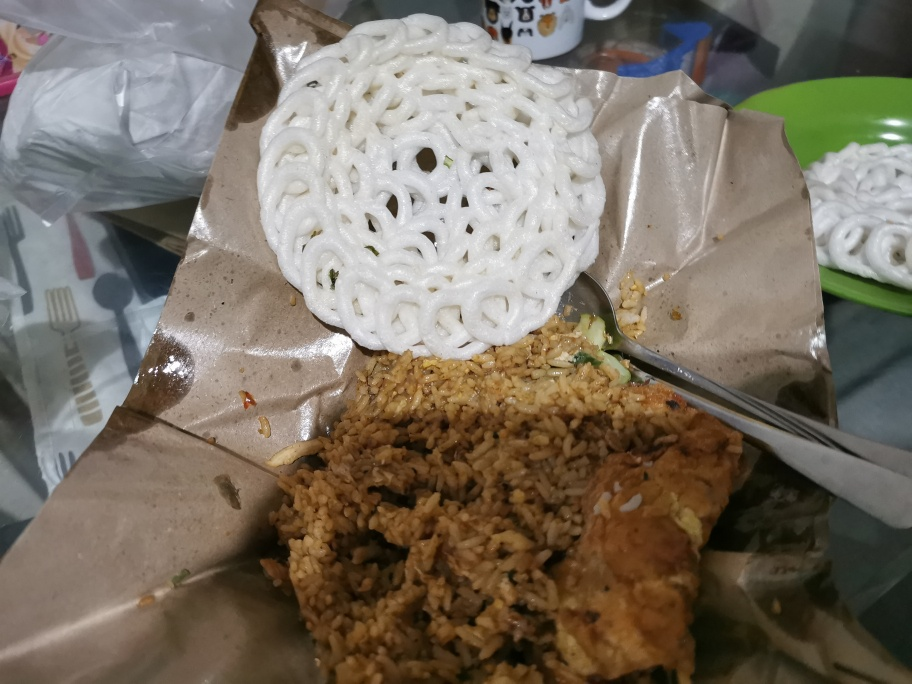kerupuk: (255, 12, 602, 349)
nasi goreng: (288, 350, 734, 684)
